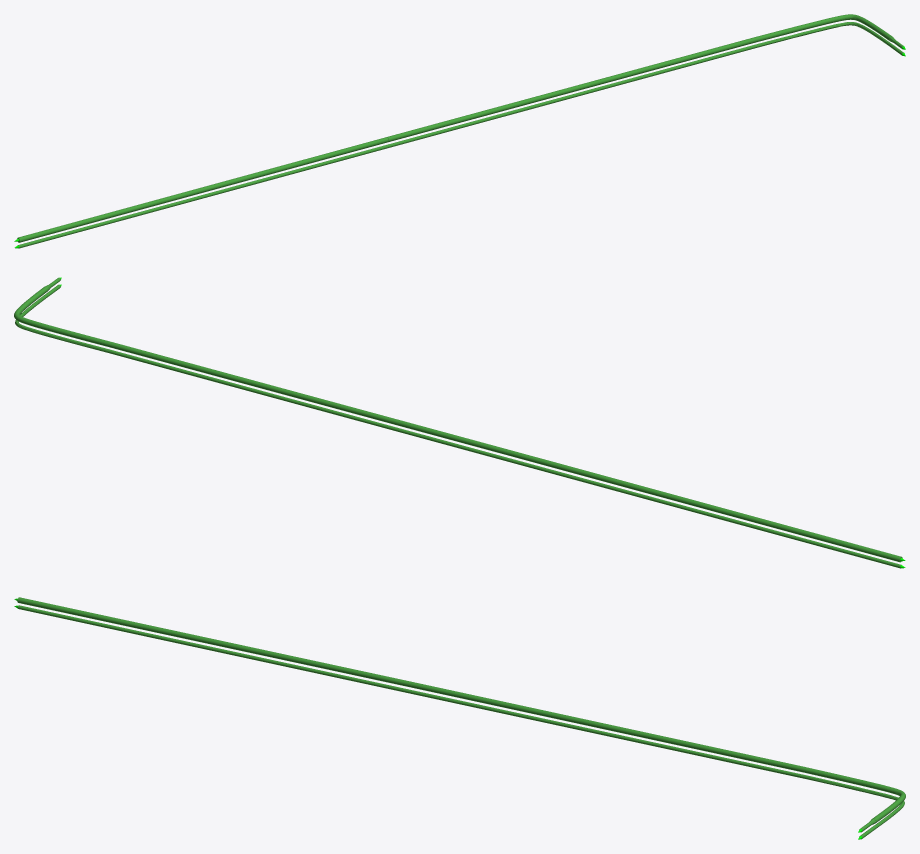
File: Phase40b.fbx
3 views of the same model, one above another, from view 1: azimuth 30°, elevation 25°; view 2: azimuth 150°, elevation 25°; view 3: azimuth 330°, elevation 25° (orthographic). The views are drawn at different scales.
Visible parts, largest first — view 1: Типы трубопроводов:Труба:256991 (×2), Типы трубопроводов:Труба:261433, Типы трубопроводов:Труба:262030, Труба горячекатанная бесшовная (балка):Труба 38:264133, Труба горячекатанная бесшовная (балка):Труба 25:272178; view 2: Типы трубопроводов:Труба:256991 (×2), Типы трубопроводов:Труба:261433, Типы трубопроводов:Труба:262030, Труба горячекатанная бесшовная (балка):Труба 38:264133, Труба горячекатанная бесшовная (балка):Труба 25:272178; view 3: Типы трубопроводов:Труба:256991 (×2), Типы трубопроводов:Труба:261433, Типы трубопроводов:Труба:262030, Труба горячекатанная бесшовная (балка):Труба 38:264133, Труба горячекатанная бесшовная (балка):Труба 25:272178.
Boxes of the visible parts, x1,y1,x2,y2 form: Типы трубопроводов:Труба:256991 (×2): (18, 37, 757, 248); Типы трубопроводов:Труба:261433: (17, 137, 388, 242); Типы трубопроводов:Труба:262030: (388, 44, 759, 147); Труба горячекатанная бесшовная (балка):Труба 38:264133: (756, 14, 891, 41); Труба горячекатанная бесшовная (балка):Труба 25:272178: (756, 22, 891, 47); Типы трубопроводов:Труба:256991 (×2): (112, 342, 901, 568); Типы трубопроводов:Труба:261433: (506, 449, 902, 562); Типы трубопроводов:Труба:262030: (110, 350, 505, 460); Труба горячекатанная бесшовная (балка):Труба 38:264133: (14, 286, 113, 347); Труба горячекатанная бесшовная (балка):Труба 25:272178: (15, 294, 113, 353); Типы трубопроводов:Труба:256991 (×2): (18, 605, 805, 772); Типы трубопроводов:Труба:261433: (17, 597, 412, 687); Типы трубопроводов:Труба:262030: (413, 690, 807, 779); Труба горячекатанная бесшовная (балка):Труба 38:264133: (804, 767, 905, 822); Труба горячекатанная бесшовная (балка):Труба 25:272178: (805, 775, 904, 829).
Bounding box in the file's own units: 6811 × 725 × 262.
